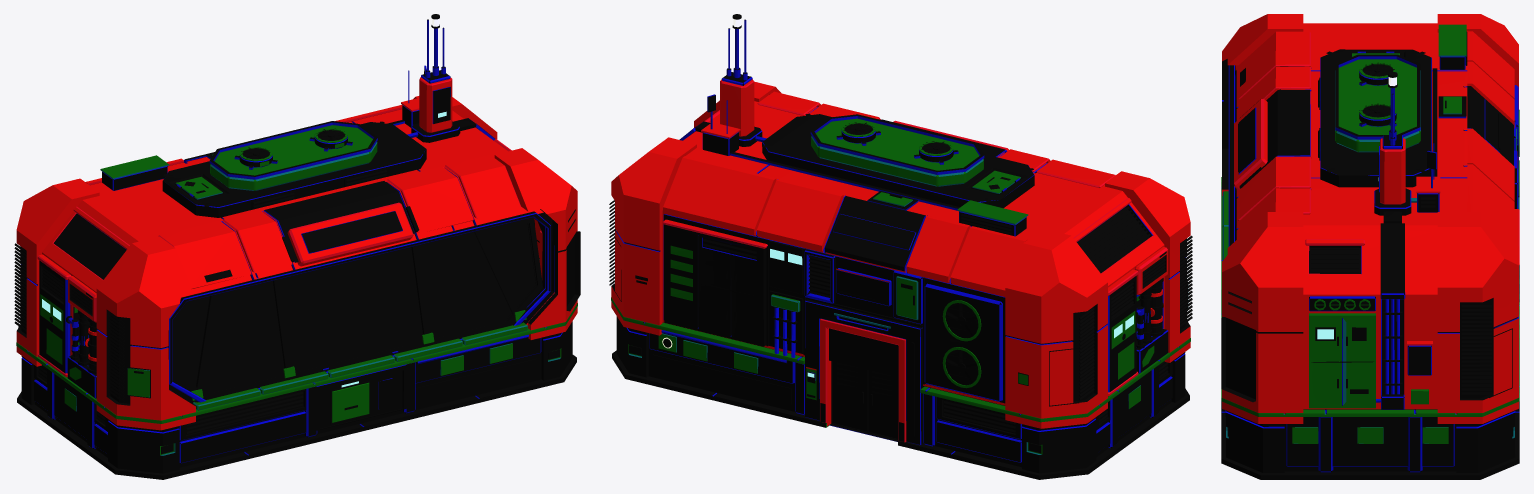
File: SM_CommandCenter_LOD1.fbx
3 views of the same model, side by side, from view 1: azimuth 30°, elevation 25°; view 2: azimuth 150°, elevation 25°; view 3: azimuth 270°, elevation 25° (orthographic). The views are drawn at different scales.
Parts seen in each view (by area): view 1: SM_CommandCenter_LOD1; view 2: SM_CommandCenter_LOD1; view 3: SM_CommandCenter_LOD1.
Boxes of the visible parts, x1=… form: SM_CommandCenter_LOD1: x1=14, y1=14, x2=580, y2=479; SM_CommandCenter_LOD1: x1=609, y1=14, x2=1192, y2=479; SM_CommandCenter_LOD1: x1=1221, y1=14, x2=1519, y2=479.
Size of the model in its own units: 16 by 10.69 by 8.
